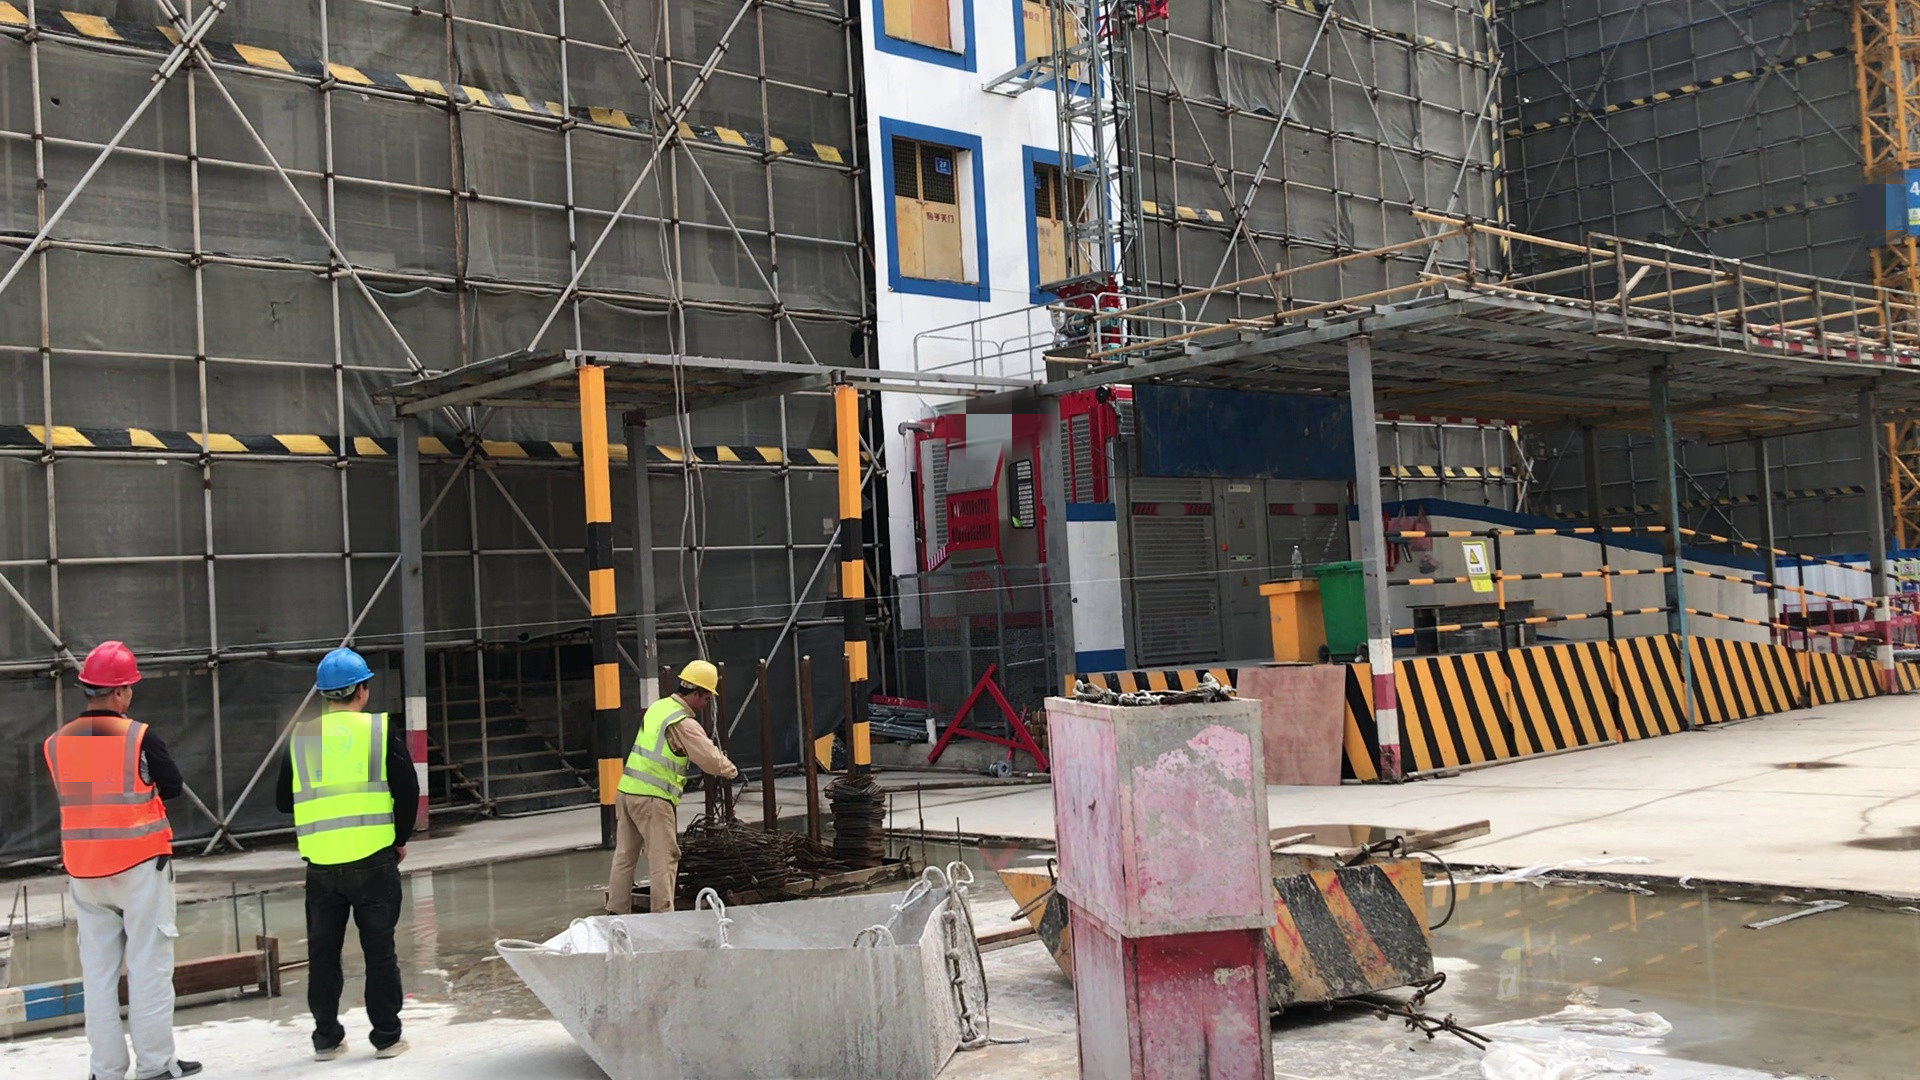fence: (1392, 509, 1920, 653)
helmet: (307, 643, 385, 700), (71, 641, 148, 694), (681, 650, 721, 697)
hopper: (484, 867, 998, 1080), (1000, 830, 1474, 1031)
person: (42, 642, 212, 1080), (272, 648, 422, 1064), (598, 649, 739, 914)
slogan: (1457, 537, 1507, 603)
vest: (38, 711, 185, 891), (289, 709, 396, 875), (618, 694, 703, 808)
